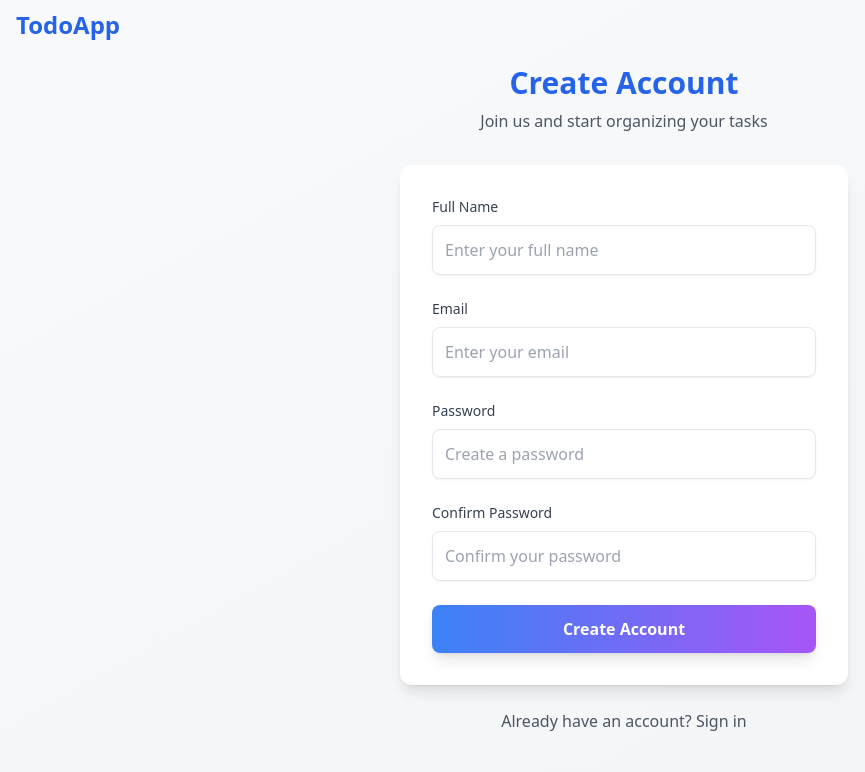
SignUpPage › shows error for mismatched passwords
Type "Test User" into the field labelled "Full Name" at (624, 250), box [432, 225, 816, 275]
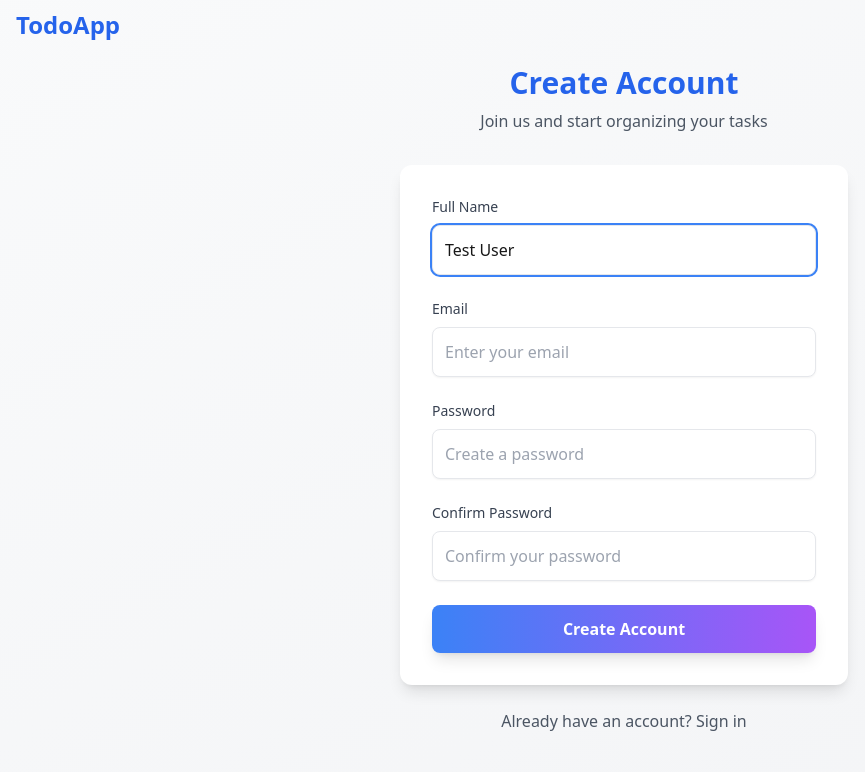
Type "test@example.com" into the field labelled "Email" at (624, 352), box [432, 327, 816, 377]
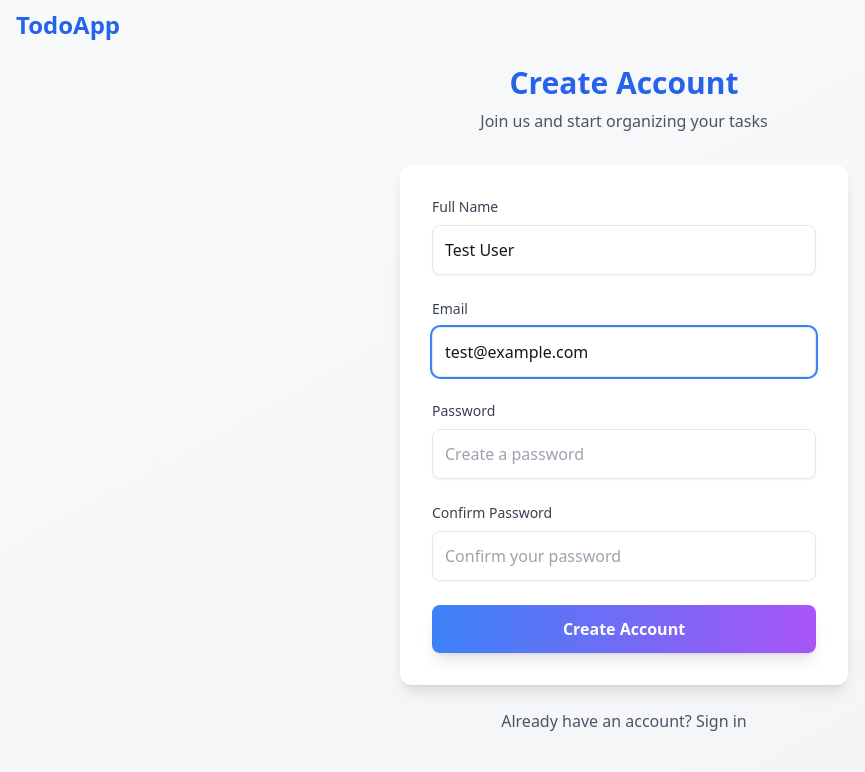
Type "password123" into the password field labelled "Password" at (624, 454), box [432, 429, 816, 479]
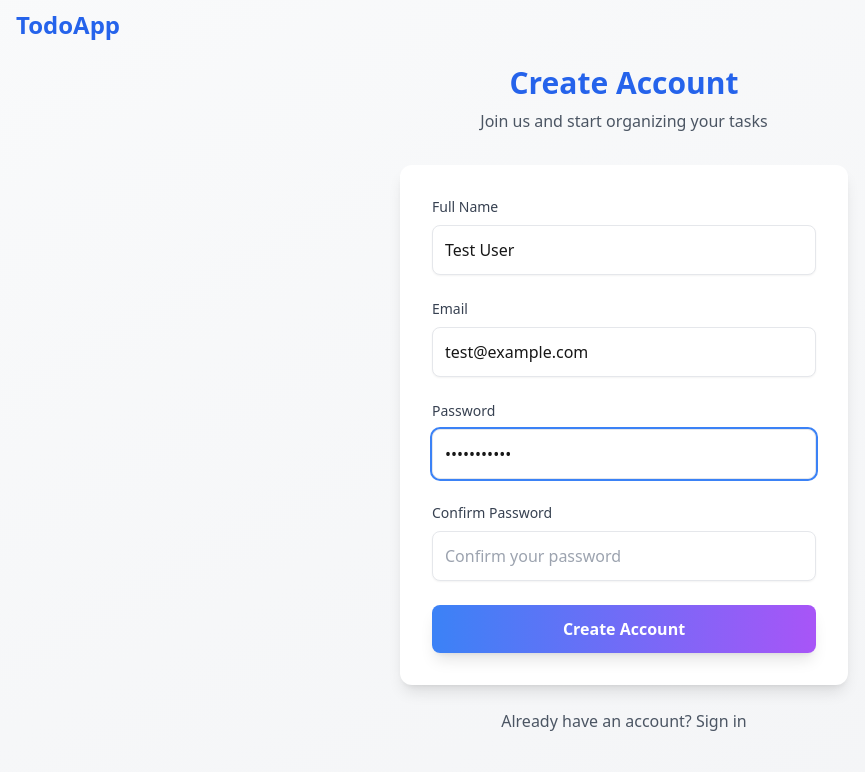
Type "password456" into the password field labelled "Confirm Password" at (624, 556), box [432, 531, 816, 581]
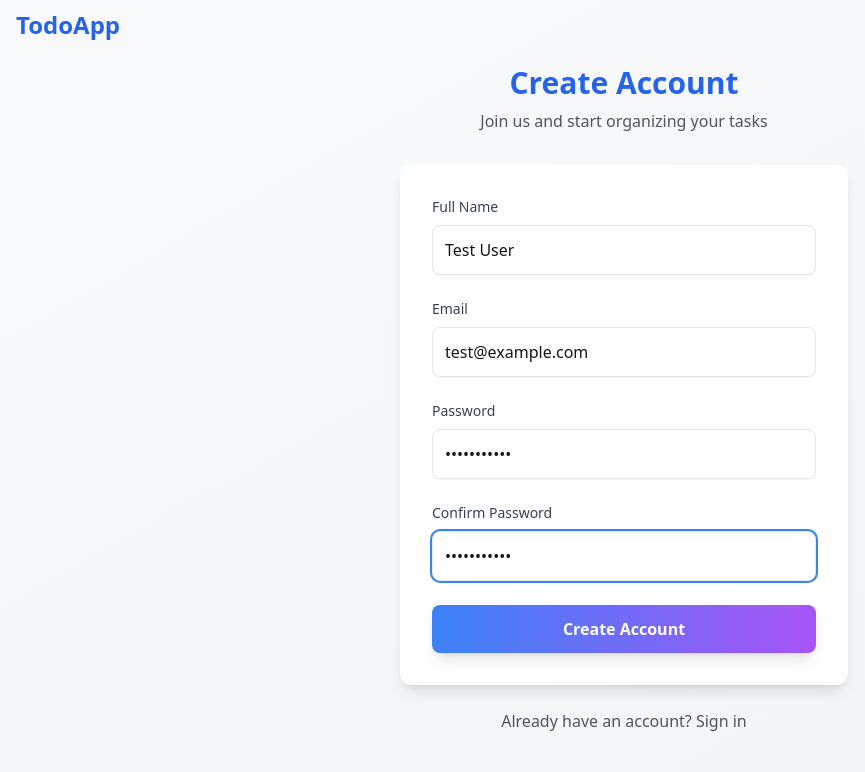
Click the button "Create Account" at (624, 629), box [432, 605, 816, 653]
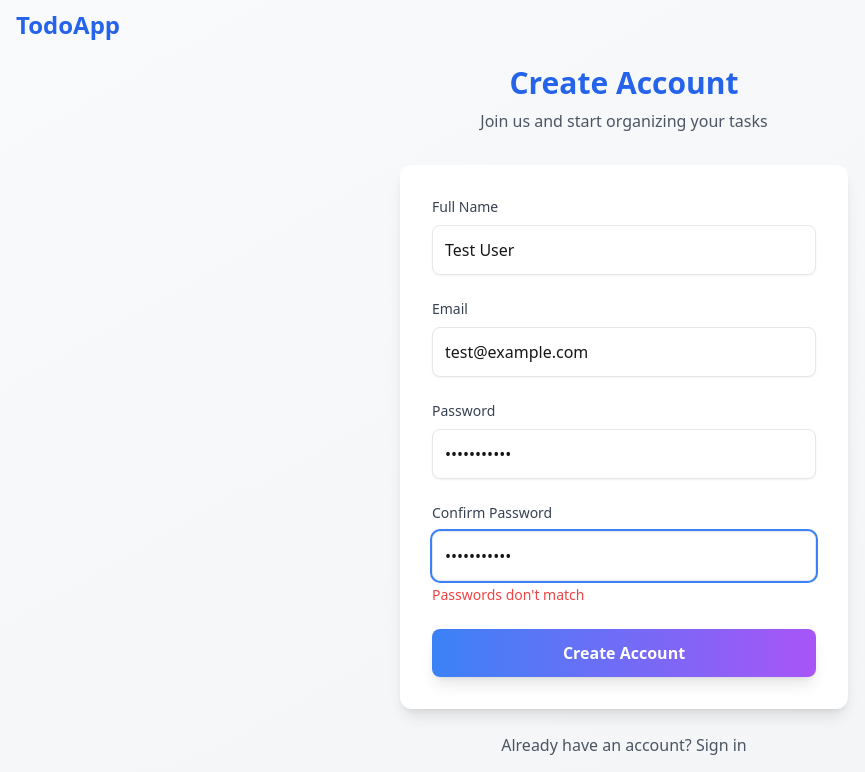
Expected: the text "Passwords don't match" is shown, [432, 585, 584, 604]
